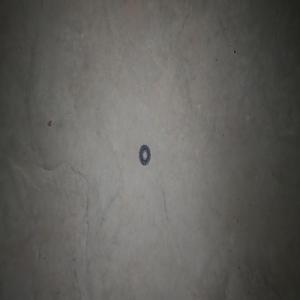Washer: (138, 144, 150, 165)
